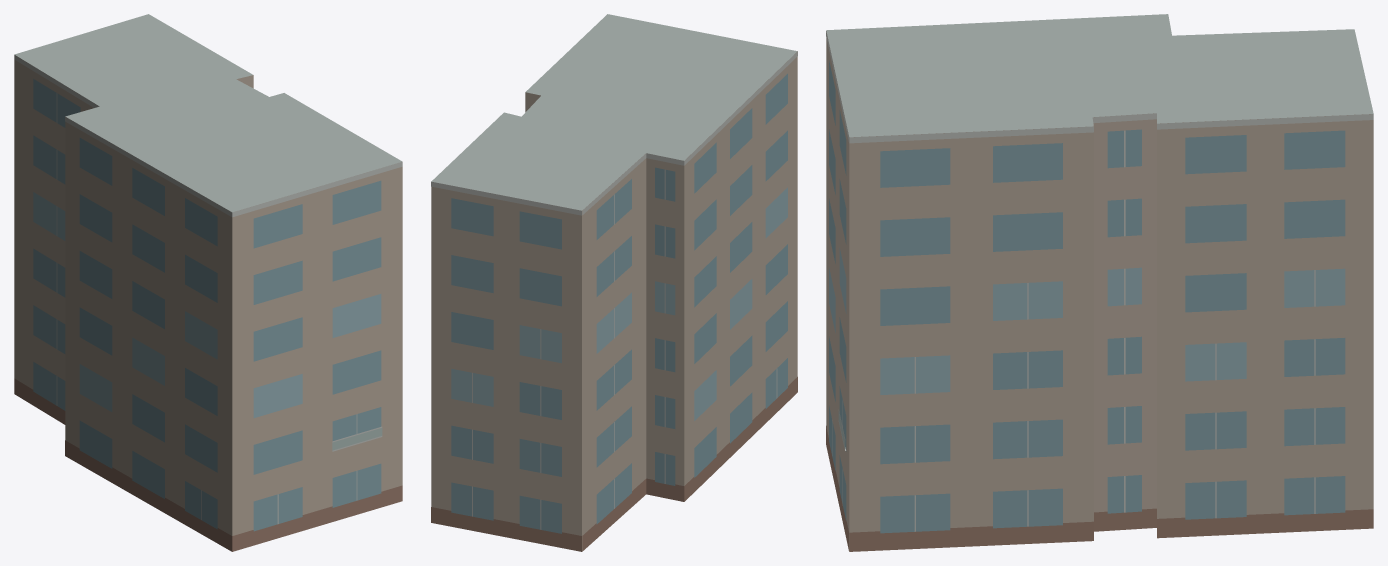
File: survey-upis-32969334.glb
3 views of the same model, side by side, from view 1: azimuth 30°, elevation 25°; view 2: azimuth 150°, elevation 25°; view 3: azimuth 270°, elevation 25° (orthographic). The views are drawn at different scales.
Visible parts, largest first — view 1: survey-upis-32969334.tmp; view 2: survey-upis-32969334.tmp; view 3: survey-upis-32969334.tmp.
Boxes of the visible parts, x1=… form: survey-upis-32969334.tmp: x1=14, y1=14, x2=402, y2=551; survey-upis-32969334.tmp: x1=431, y1=14, x2=797, y2=551; survey-upis-32969334.tmp: x1=826, y1=14, x2=1373, y2=551.
Size of the model in its own units: 10.66 by 16.7 by 20.
